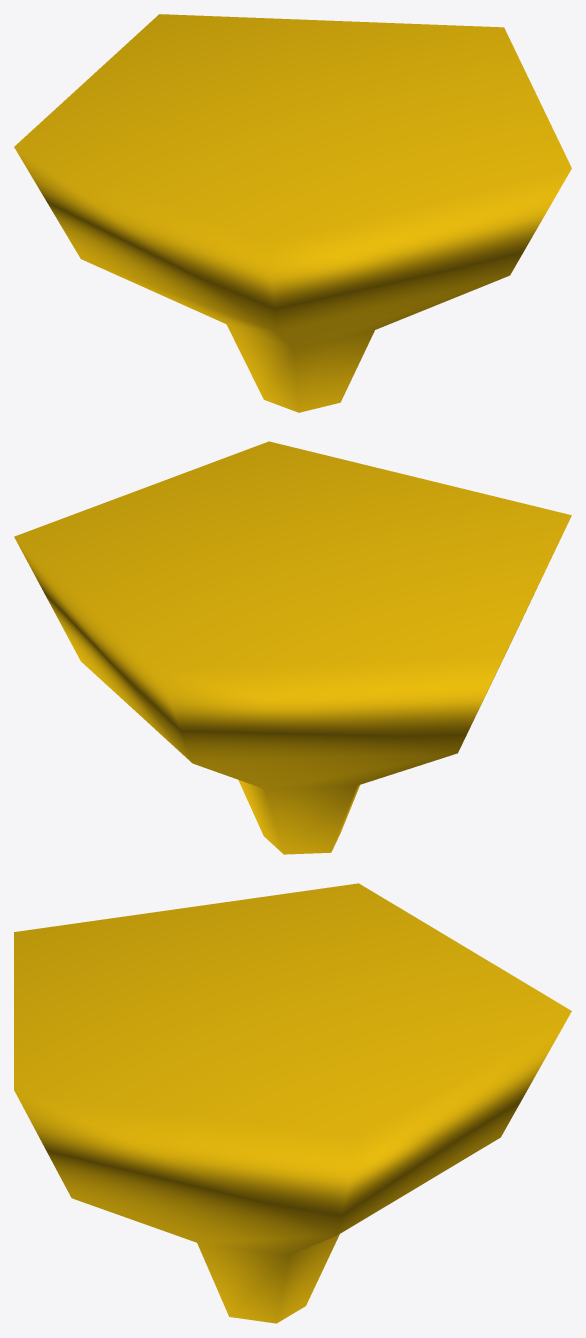
File: Flower.fbx
3 renders of one model, top to bottom at view 1: azimuth 30°, elevation 25°; view 2: azimuth 150°, elevation 25°; view 3: azimuth 270°, elevation 25°, orthographic. The views are drawn at different scales.
Visible parts, largest first — view 1: Flower; view 2: Flower; view 3: Flower.
Part boxes in pixels (<box>): Flower: <box>14,14,571,412</box>; Flower: <box>14,441,571,854</box>; Flower: <box>14,883,571,1323</box>.
Size of the model in its own units: 1300 by 700 by 1200.
